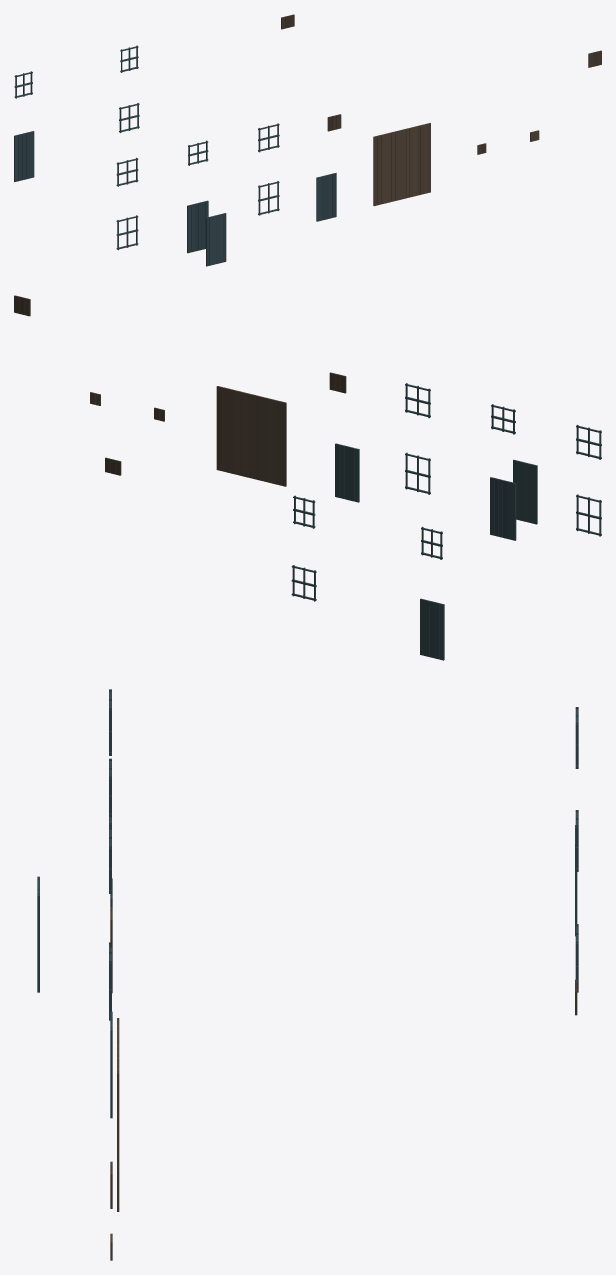
Rendered from SM_Bld_172_Wood.glb.
The picture shows the model from 3 angles, top to bottom: view 1: azimuth 30°, elevation 25°; view 2: azimuth 150°, elevation 25°; view 3: azimuth 270°, elevation 25°; orthographic projection. The views are drawn at different scales.
Visible parts, largest first — view 1: SM_Bld_172_Wood; view 2: SM_Bld_172_Wood; view 3: SM_Bld_172_Wood.
Part boxes in pixels (bbox=[...]): SM_Bld_172_Wood: bbox=[14, 14, 601, 266]; SM_Bld_172_Wood: bbox=[14, 295, 601, 660]; SM_Bld_172_Wood: bbox=[37, 689, 578, 1260].
Bounding box in the file's own units: 22.03 × 4.67 × 10.65.
